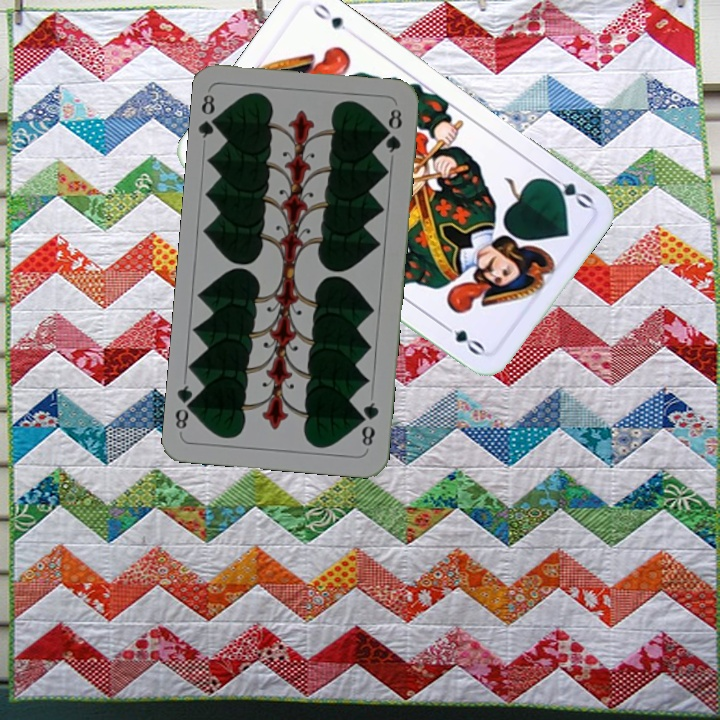G8: (195, 90, 224, 141), (356, 398, 382, 449)
GO: (540, 168, 596, 211)
